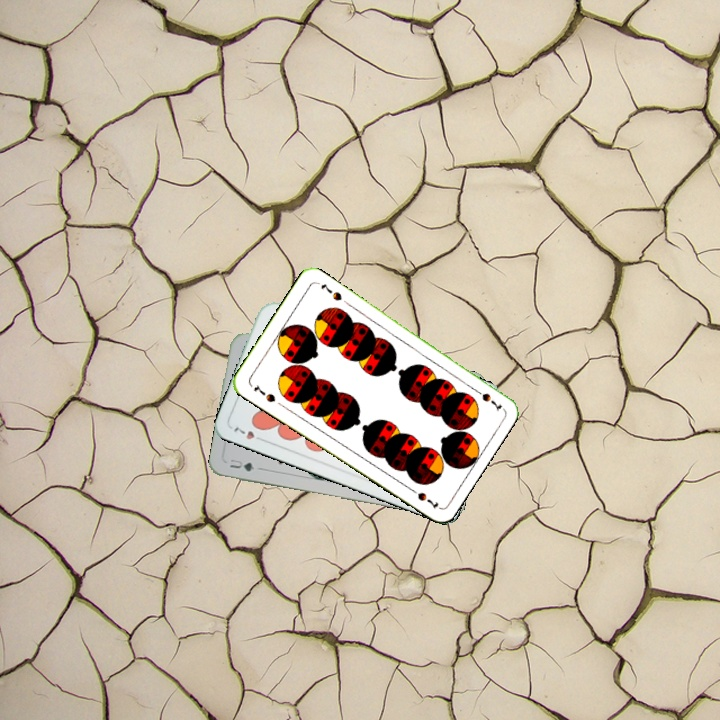GU: (226, 455, 257, 474)
H7: (230, 423, 267, 444)
S7: (469, 384, 504, 413), (250, 380, 278, 405)
